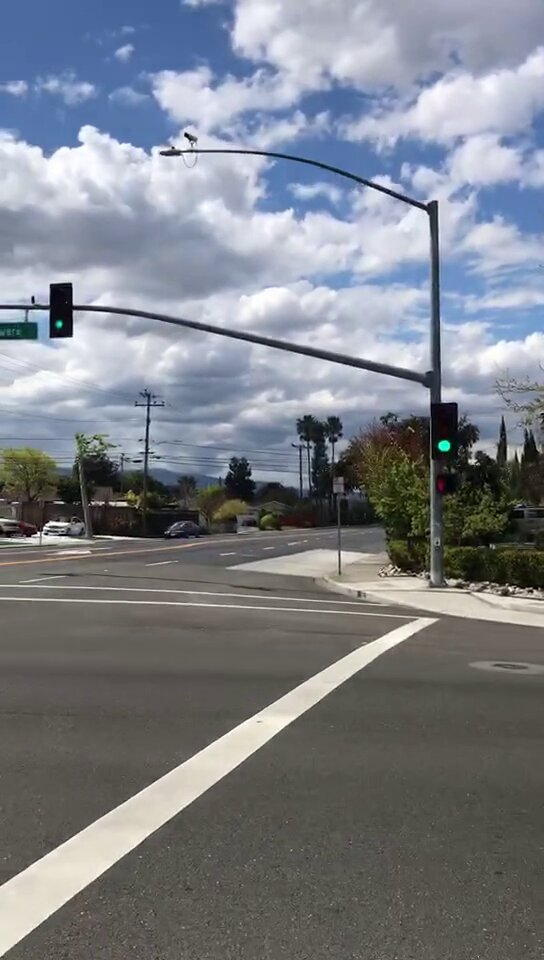green_light: (436, 405, 458, 459), (52, 286, 70, 337)
